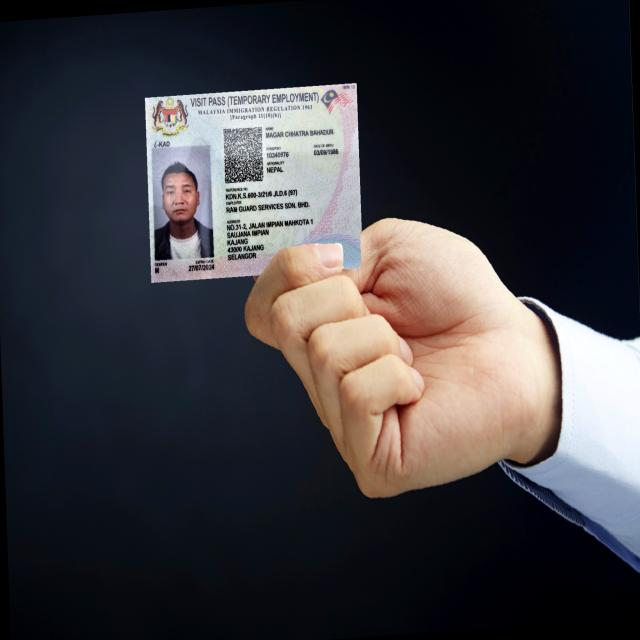ikad-temp: (144, 82, 362, 284)
